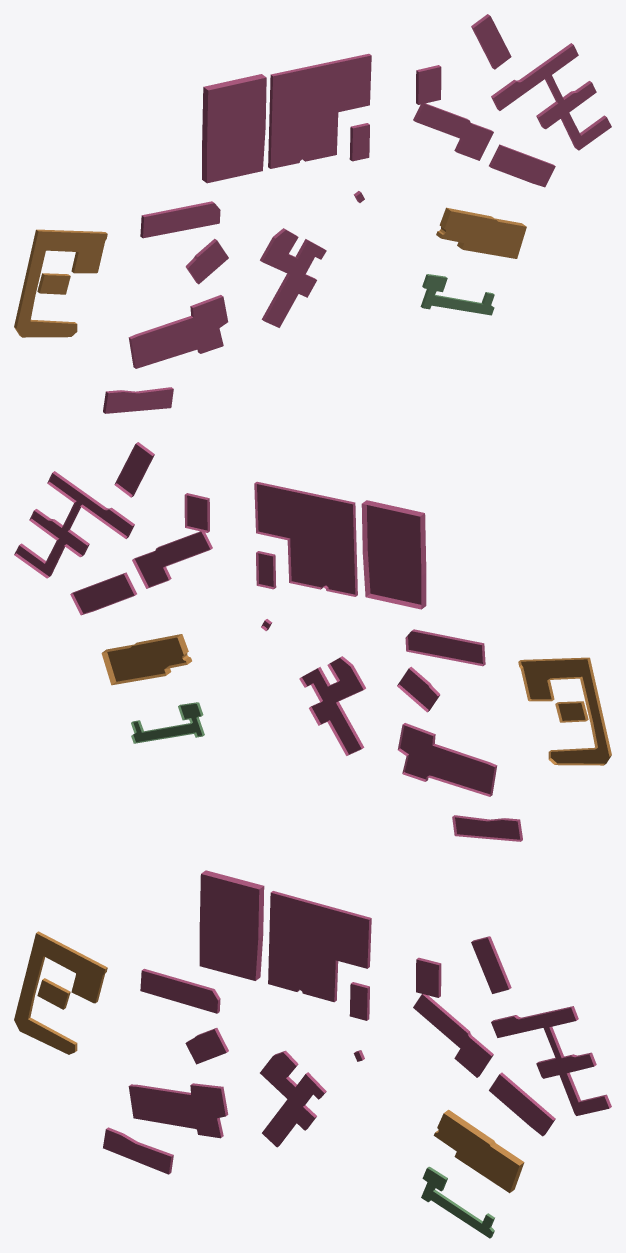
Rendered from buildings_k26.obj.
3 renders of one model, top to bottom at view 1: azimuth 30°, elevation 25°; view 2: azimuth 150°, elevation 25°; view 3: azimuth 330°, elevation 25°, orthographic.
Parts seen in each view (by area): view 1: roof1, roof2, zone1, zone2, roof3; view 2: roof1, zone1, roof2, zone2, roof3, zone3; view 3: roof1, roof2, zone1, zone2, roof3.
Boxes of the visible parts, left/top/right/bottom form: roof1: left=105, top=16, right=611, bottom=413; roof2: left=16, top=211, right=526, bottom=337; zone1: left=103, top=14, right=606, bottom=413; zone2: left=14, top=207, right=526, bottom=336; roof3: left=423, top=275, right=494, bottom=315; roof1: left=17, top=444, right=520, bottom=839; zone1: left=14, top=442, right=522, bottom=841; roof2: left=107, top=637, right=609, bottom=763; zone2: left=101, top=634, right=611, bottom=765; roof3: left=133, top=704, right=201, bottom=742; zone3: left=131, top=702, right=204, bottom=743; roof1: left=103, top=874, right=609, bottom=1174; roof2: left=14, top=933, right=519, bottom=1192; zone1: left=106, top=870, right=611, bottom=1174; zone2: left=28, top=931, right=524, bottom=1192; roof3: left=421, top=1168, right=492, bottom=1238.
Bounding box in the file's own units: 589 × 297 × 8.5.
